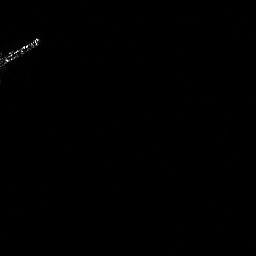ship: (1, 36, 40, 69)
